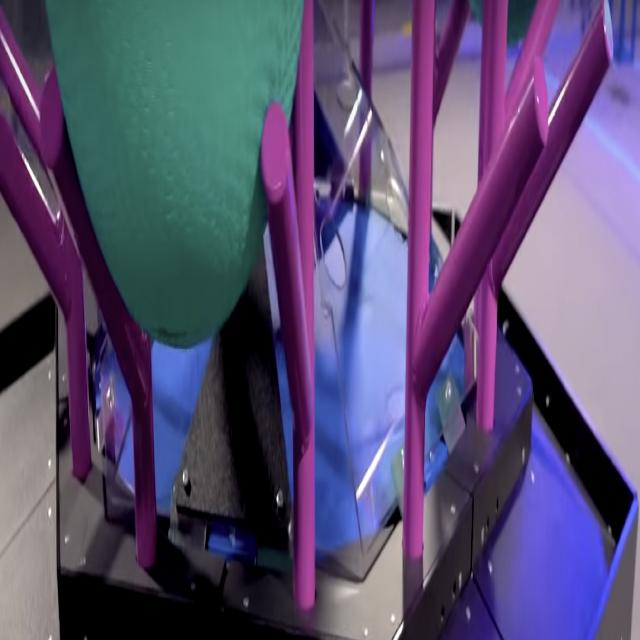Algae: (43, 0, 305, 350), (469, 0, 536, 43)
Reef: (411, 52, 548, 398), (40, 59, 149, 412), (490, 0, 614, 284), (260, 98, 312, 448), (0, 107, 70, 330), (0, 2, 45, 163), (504, 0, 559, 130), (433, 0, 470, 123)
